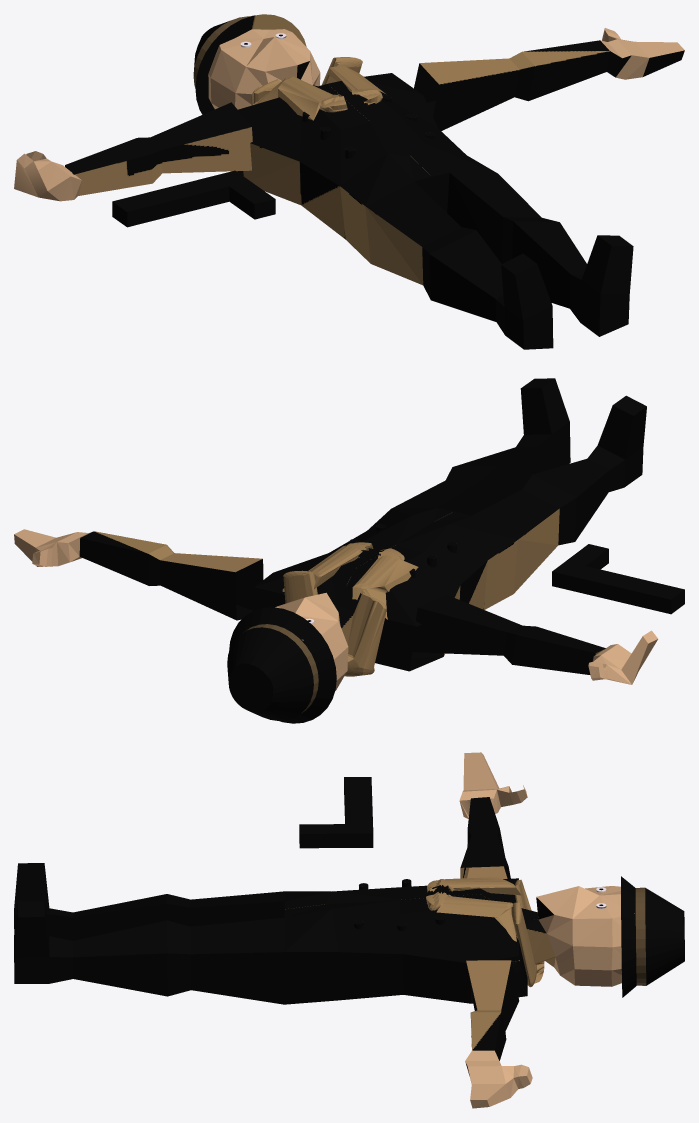
Rendered from denemy.obj.
3 renders of one model, top to bottom at view 1: azimuth 30°, elevation 25°; view 2: azimuth 150°, elevation 25°; view 3: azimuth 270°, elevation 25°, orthographic. The views are drawn at different scales.
Parts seen in each view (by area): view 1: Cube.001_Cube.001, Cube_Cube.001; view 2: Cube.001_Cube.001, Cube_Cube.001; view 3: Cube.001_Cube.001, Cube_Cube.001.
Boxes of the visible parts, box(x1,y1,x2,y2) form: Cube.001_Cube.001: box(14, 14, 684, 349); Cube_Cube.001: box(112, 170, 275, 227); Cube.001_Cube.001: box(14, 378, 657, 723); Cube_Cube.001: box(552, 544, 684, 614); Cube.001_Cube.001: box(14, 752, 684, 1108); Cube_Cube.001: box(299, 777, 373, 848).
Size of the model in its own units: 15.23 by 2.59 by 14.24.
